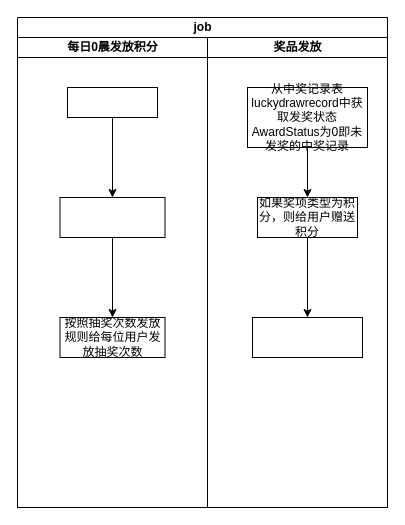
The diagram is 405 pixels wide and 525 high, and some of its shapes have lost their labels. Here are the shapes that lost their labels. From the top down, the centre of each, then its label:
At (x=112, y=102): "获取系统在进行的大转盘活动".
At (x=112, y=217): "如果活动设置了每日清零则先清零每位用户的账户".
At (x=307, y=337): "如果奖项类型为优惠券，则给用户赠送优惠券".
